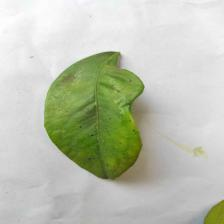greening: (41, 61, 143, 166)
